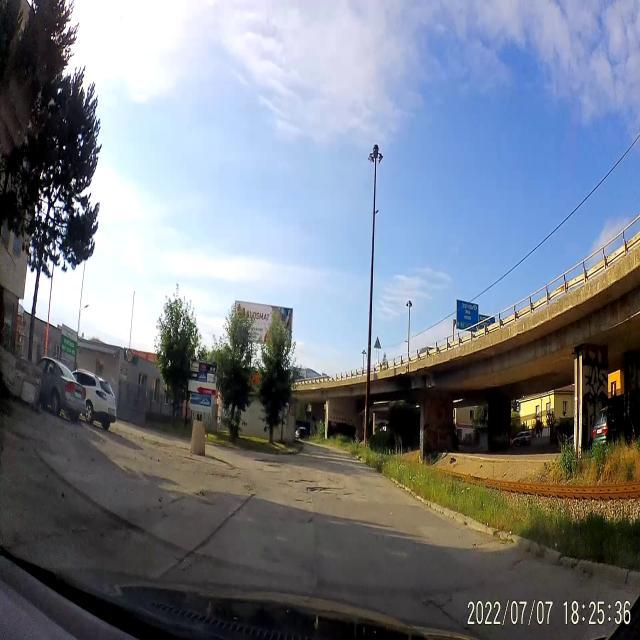Pothole: (305, 483, 343, 504), (250, 457, 291, 470), (284, 474, 317, 486), (190, 484, 214, 500), (288, 496, 308, 504)
